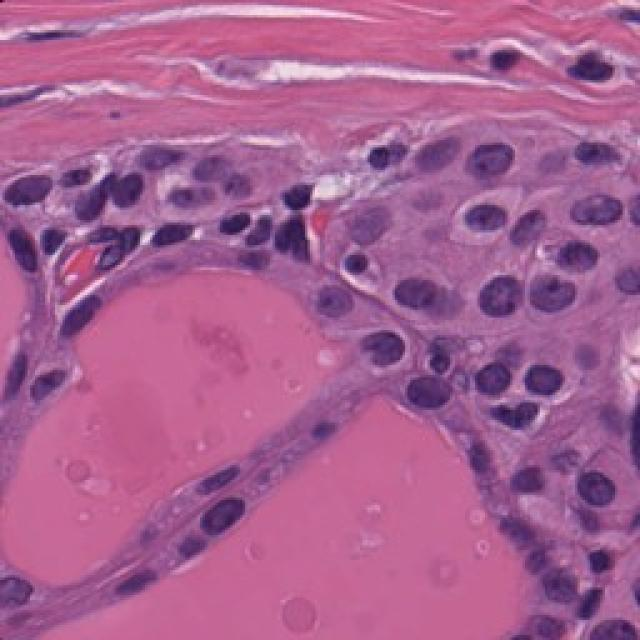abnormal: (316, 181, 429, 282), (556, 432, 640, 552), (145, 147, 248, 242), (383, 343, 477, 446), (450, 108, 527, 225), (3, 132, 85, 238), (548, 166, 640, 258), (172, 479, 275, 553), (530, 247, 613, 334), (508, 343, 583, 428), (301, 262, 374, 345), (466, 264, 539, 345)
